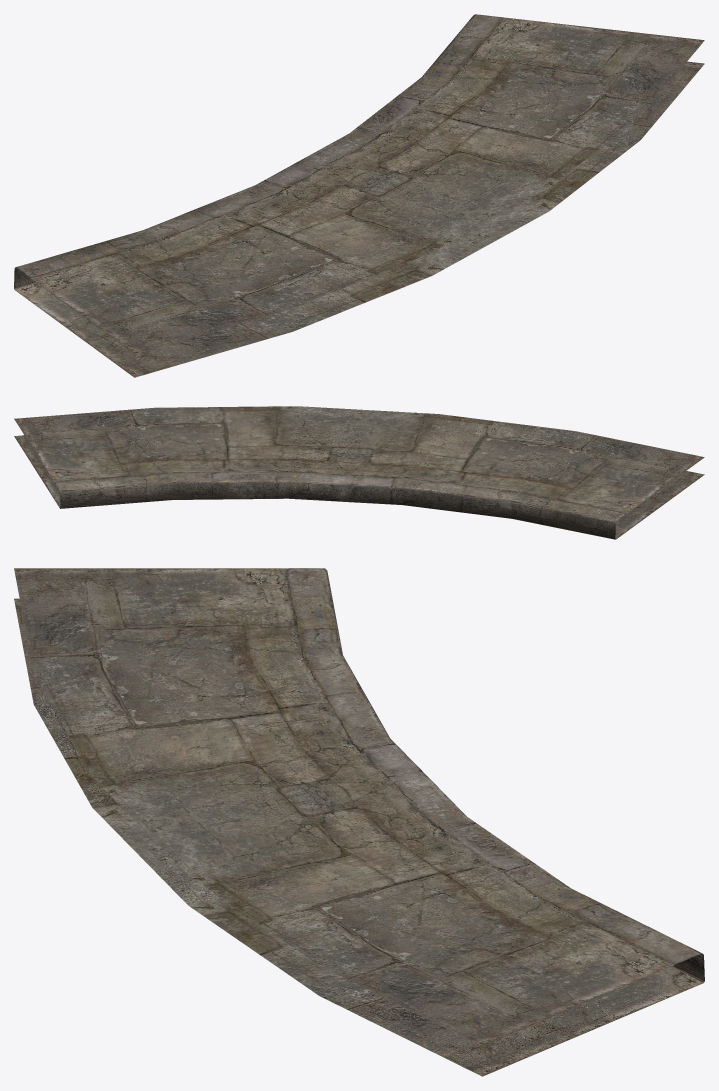
The picture shows the model from 3 angles, top to bottom: view 1: azimuth 30°, elevation 25°; view 2: azimuth 150°, elevation 25°; view 3: azimuth 270°, elevation 25°; orthographic projection. The views are drawn at different scales.
Visible parts, largest first — view 1: LV_Campagna_Stadium_Bottom03_SM_JJH; view 2: LV_Campagna_Stadium_Bottom03_SM_JJH; view 3: LV_Campagna_Stadium_Bottom03_SM_JJH.
Boxes of the visible parts, x1,y1,x2,y2 form: LV_Campagna_Stadium_Bottom03_SM_JJH: (14,14,704,377); LV_Campagna_Stadium_Bottom03_SM_JJH: (14,406,704,539); LV_Campagna_Stadium_Bottom03_SM_JJH: (14,568,704,1076).
Size of the model in its own units: 6.71 by 0.1996 by 4.1.
1 material, 1 textured.
